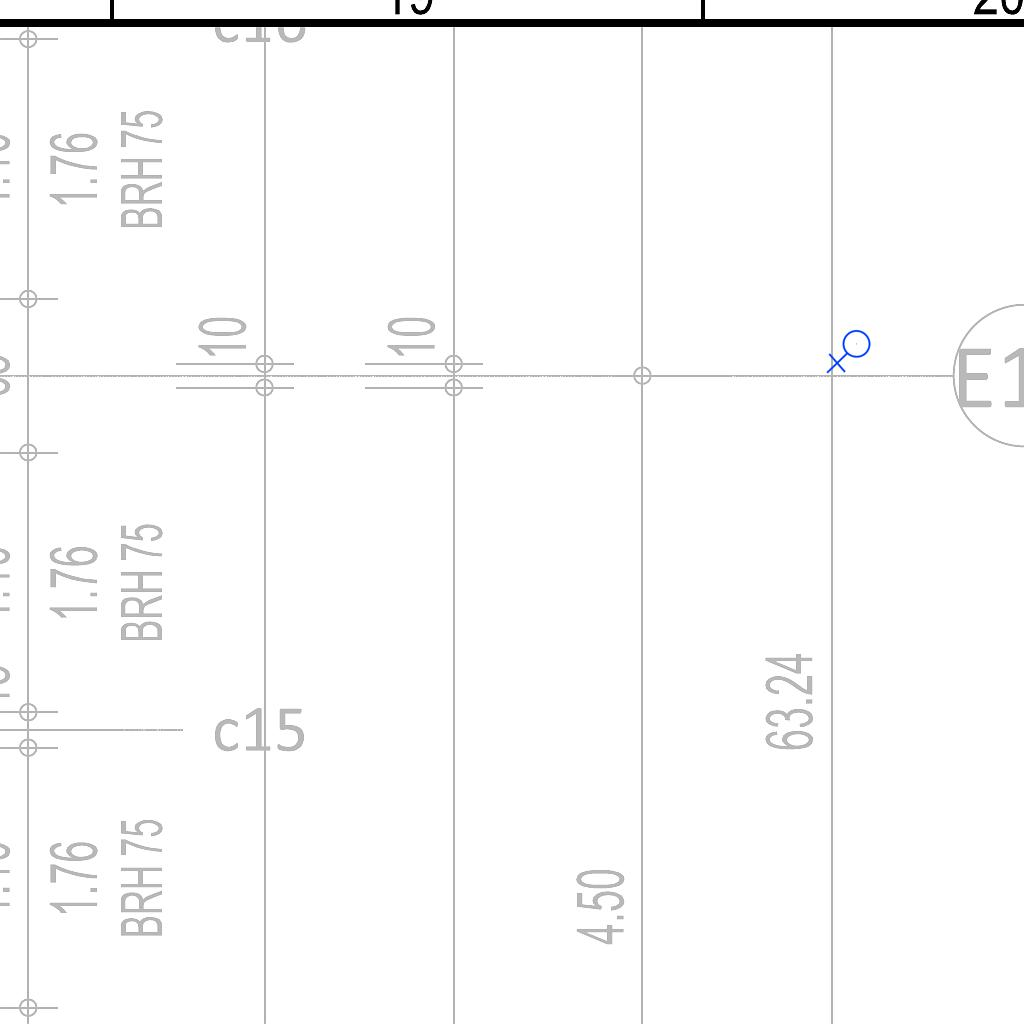Elektroanschluss_allgemein_230V_Geraeteanschlussdose_230V: (826, 329, 875, 376)
